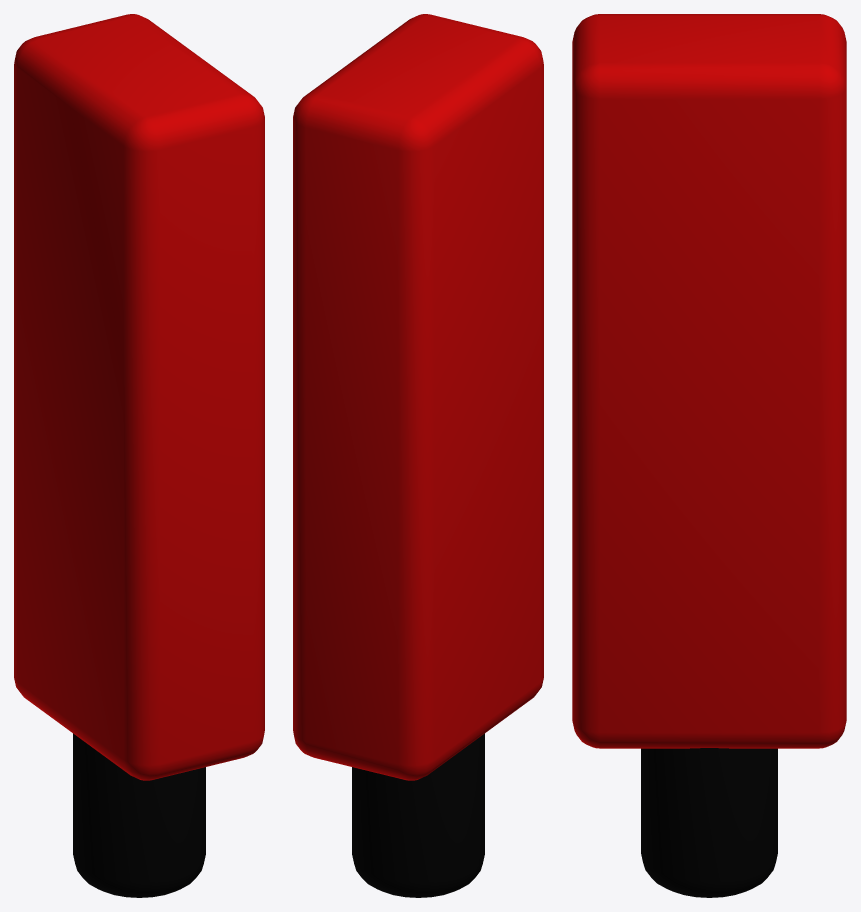
File: ob_tru_chu_nhat.fbx
3 views of the same model, side by side, from view 1: azimuth 30°, elevation 25°; view 2: azimuth 150°, elevation 25°; view 3: azimuth 270°, elevation 25° (orthographic). The views are drawn at different scales.
Visible parts, largest first — view 1: Cube, tru; view 2: Cube, tru; view 3: Cube, tru.
Boxes of the visible parts, left/top/right/bottom form: Cube: left=14, top=14, right=264, bottom=780; tru: left=73, top=733, right=205, bottom=897; Cube: left=293, top=14, right=543, bottom=780; tru: left=352, top=733, right=484, bottom=897; Cube: left=572, top=14, right=846, bottom=748; tru: left=641, top=748, right=777, bottom=897.
Bounding box in the file's own units: 24 × 135 × 40.
